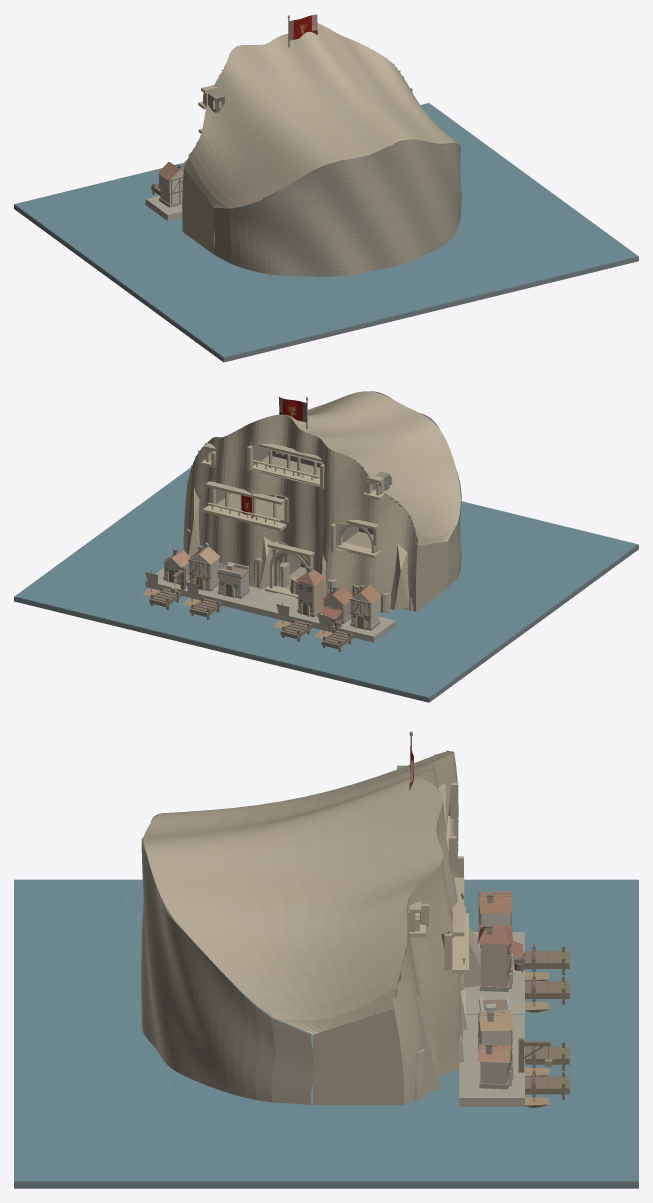
Rendered from casterly-rock.glb.
The picture shows the model from 3 angles, top to bottom: view 1: azimuth 30°, elevation 25°; view 2: azimuth 150°, elevation 25°; view 3: azimuth 270°, elevation 25°; orthographic projection. The views are drawn at different scales.
Visible parts, largest first — view 1: کسترلیراک; view 2: کسترلیراک; view 3: کسترلیراک.
Boxes of the visible parts, <box> form: کسترلیراک: <box>14,14,638,362</box>; کسترلیراک: <box>14,391,638,702</box>; کسترلیراک: <box>14,731,638,1188</box>.
Size of the model in its own units: 16 by 7.42 by 14.
Materials: 2 (1 with a texture image).
